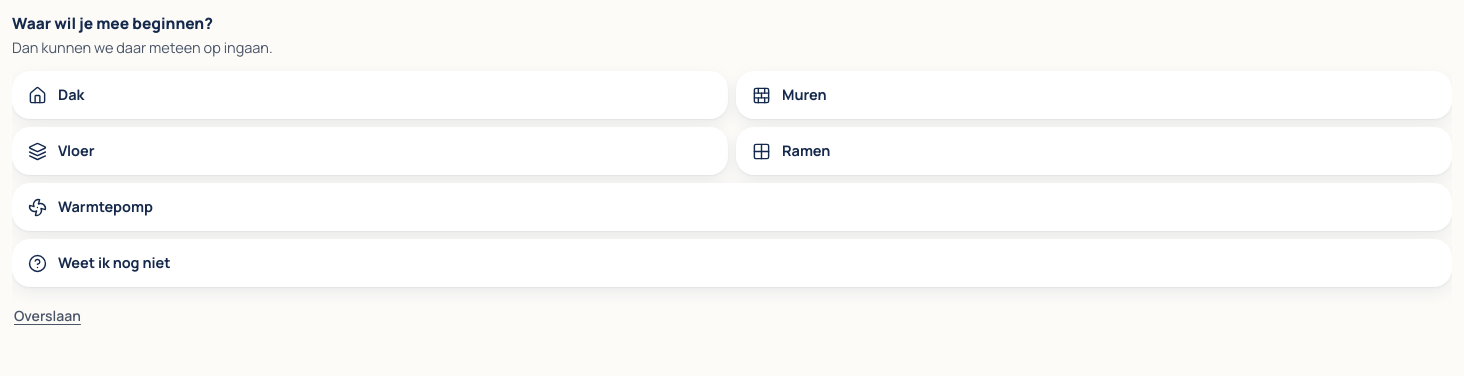
Test: waar wil je mee beginnen? › lukt het bewaren niet, dan kan het met een nieuwe tik nog eens
Click the radio button labelled "Dak". click: (37, 95)
box: [12,71,728,119]
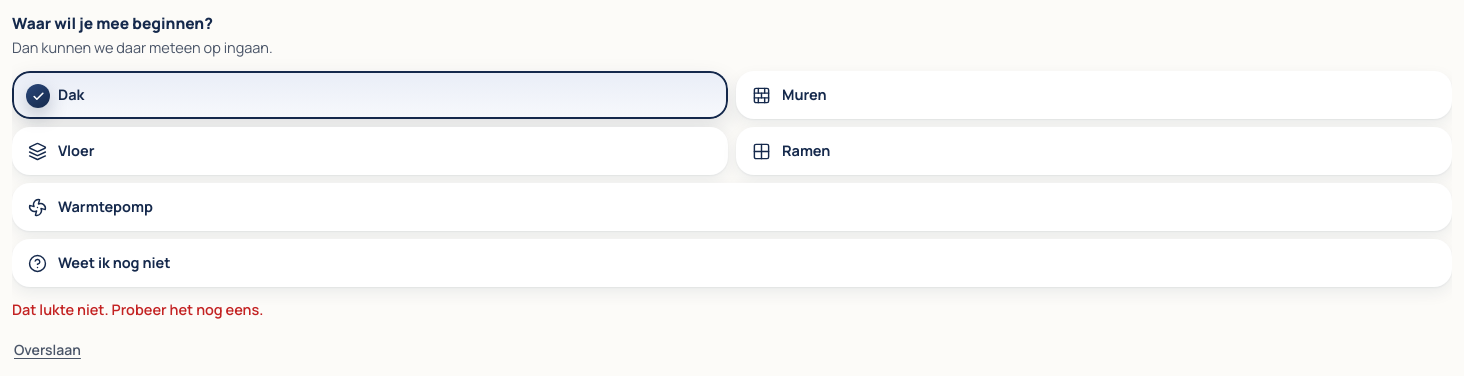
Check: the message reads "Dat lukte niet. Probeer het nog eens.", box [12,300,264,319]
Click the radio button labelled "Dak". click: (38, 96)
box: [12,71,728,119]
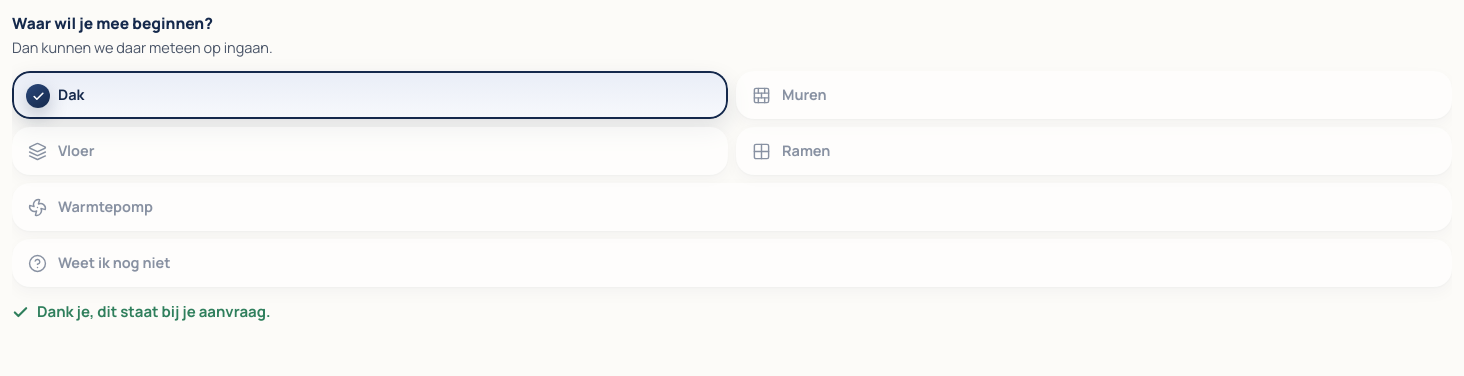
Check: the text "Dank je, dit staat bij je aanvraag." is shown, box [12,301,270,322]
